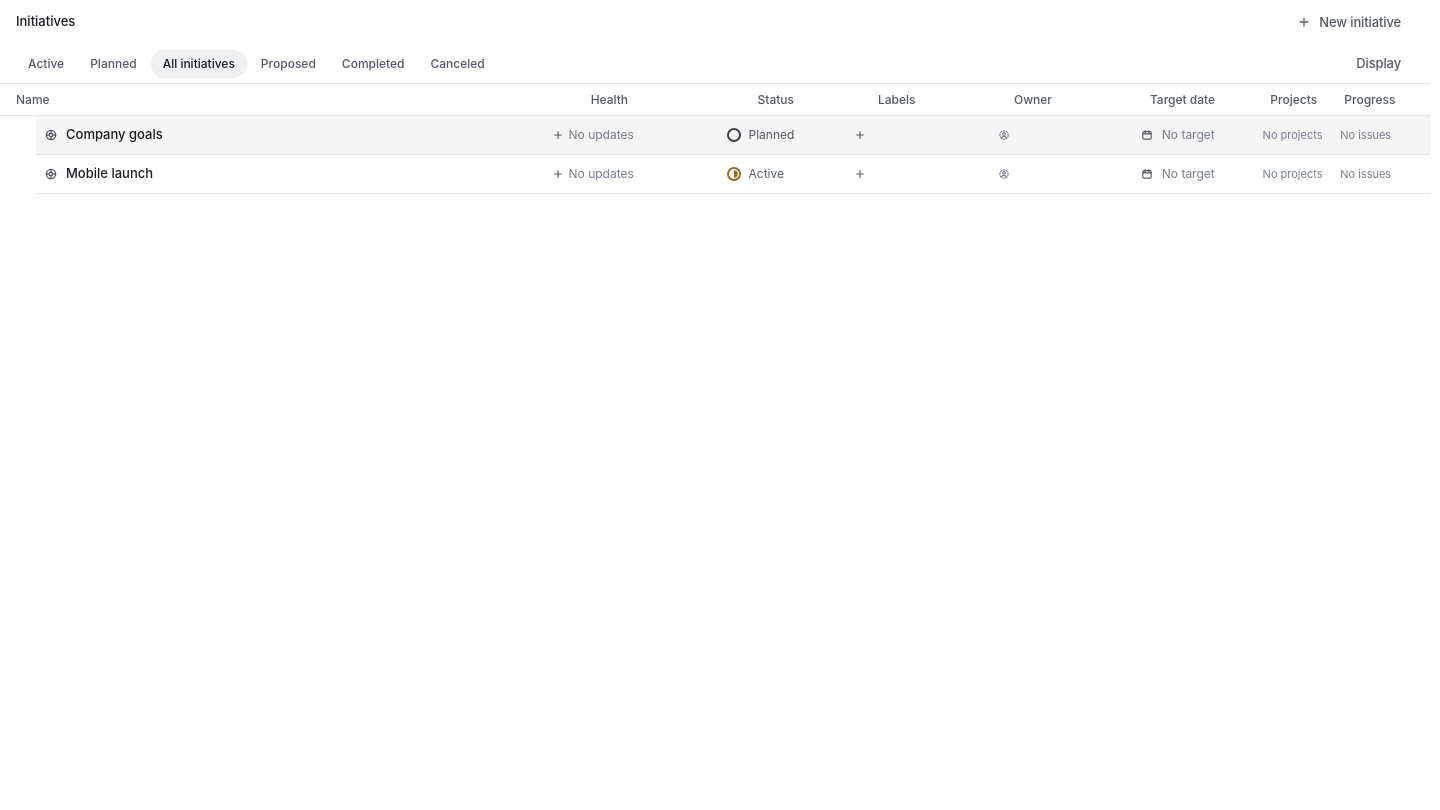
an initiative row’s health › opens the update composer rather than a menu of healths
The width and height of the screenshot is (1440, 810).
Click the button named "No health" in the row of "Company goals" at [558, 135], box [546,124,568,146]
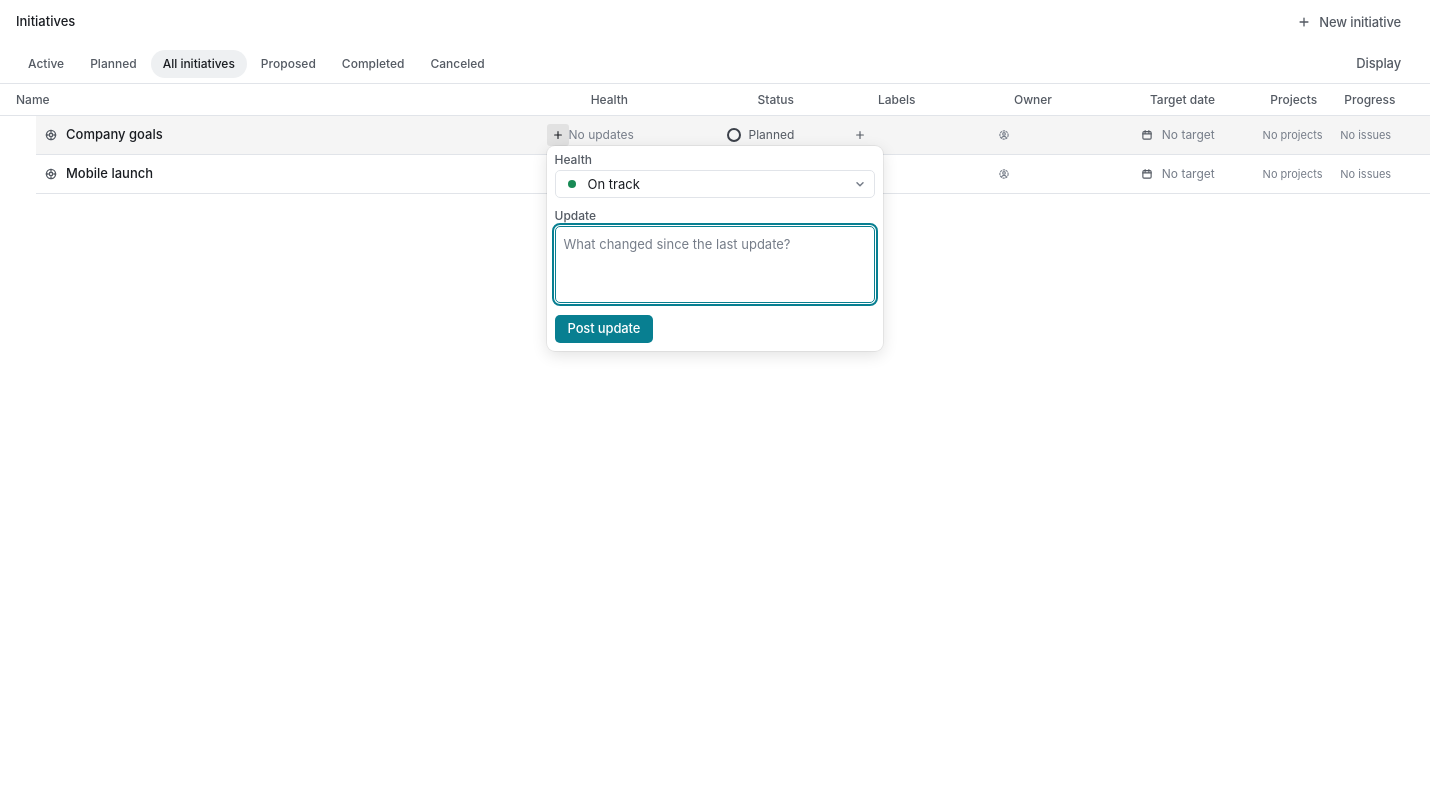
Check: the dialog named "Initiative update" is shown, box [546,146,882,350]
